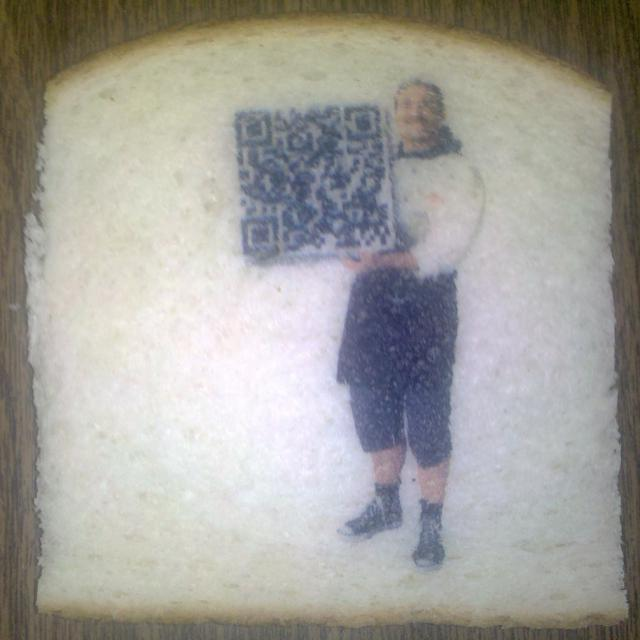qrcode: (236, 105, 392, 257)
